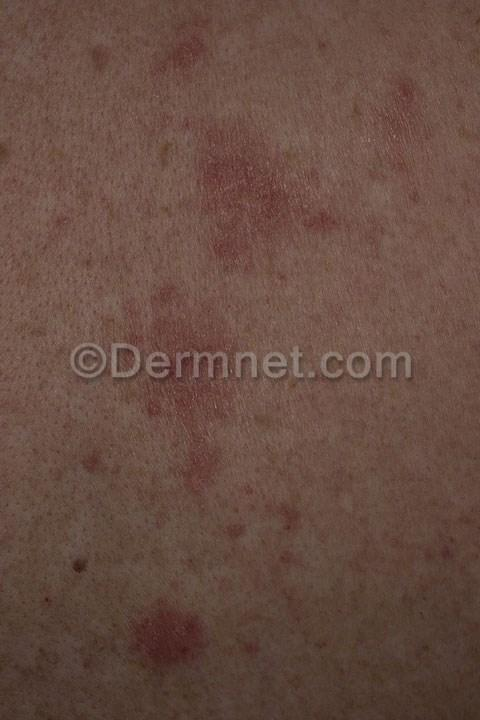Eczema: (58, 0, 393, 423), (78, 426, 319, 705)
